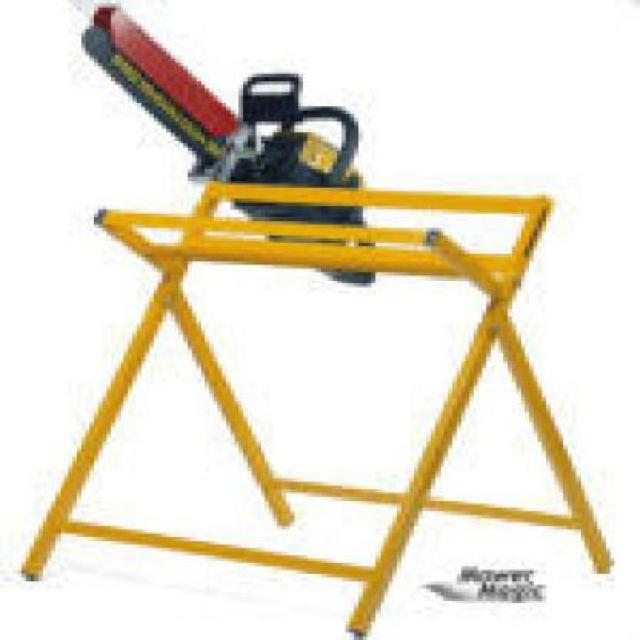Chainsaw: (65, 9, 382, 289)
